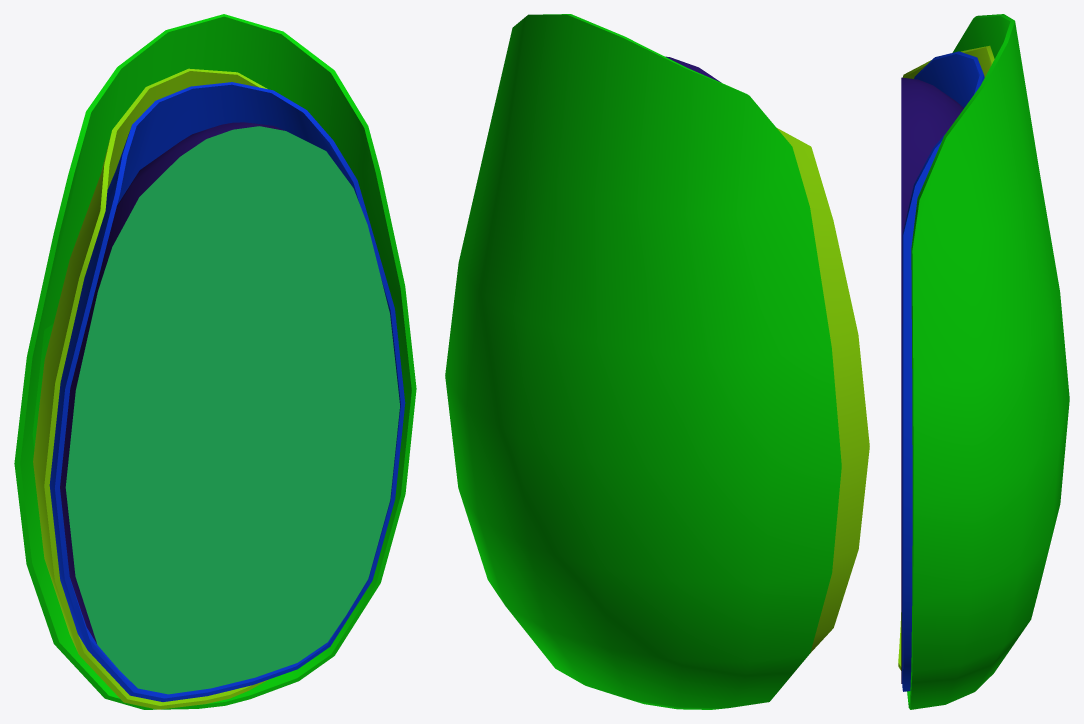
The model's file is Kimchikkaebi.fbx.
3 views of the same model, side by side, from view 1: azimuth 30°, elevation 25°; view 2: azimuth 150°, elevation 25°; view 3: azimuth 270°, elevation 25° (orthographic). The views are drawn at different scales.
Visible parts, largest first — view 1: Kimchikkaebi; view 2: Kimchikkaebi; view 3: Kimchikkaebi.
Part boxes in pixels (<box>): Kimchikkaebi: <box>14,14,416,709</box>; Kimchikkaebi: <box>445,14,869,709</box>; Kimchikkaebi: <box>898,14,1069,709</box>.
Bounding box in the file's own units: 30.46 × 49.51 × 11.71.
